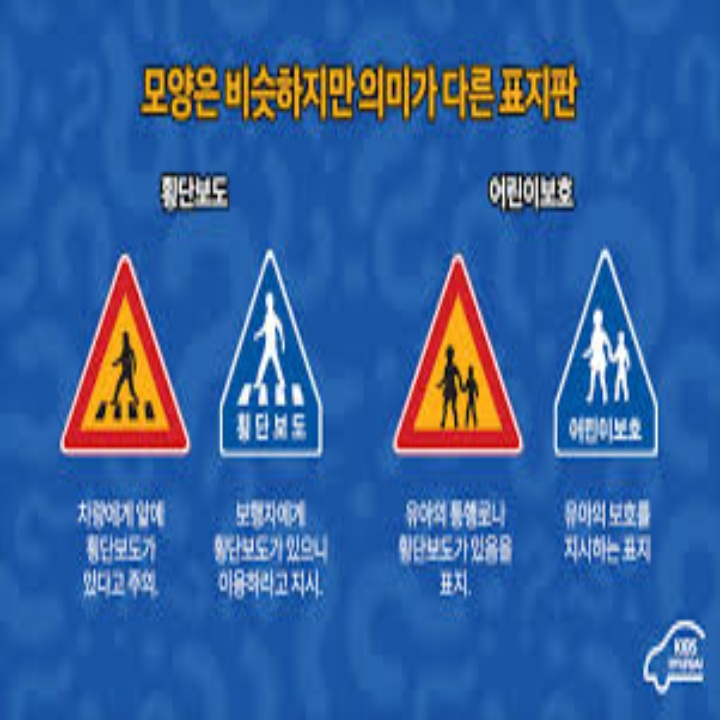child: (575, 303, 637, 405), (429, 341, 487, 429)
cross: (243, 285, 299, 395), (97, 323, 151, 413)
